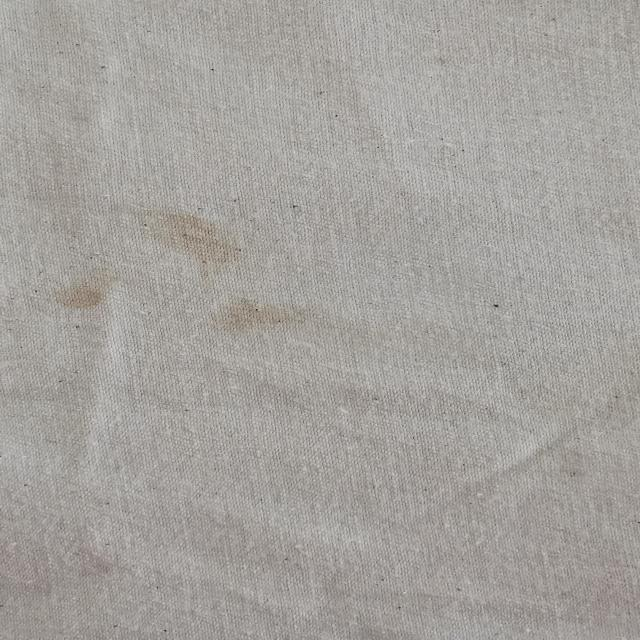taaaches: (126, 204, 255, 280), (190, 292, 312, 350), (34, 279, 126, 331)
